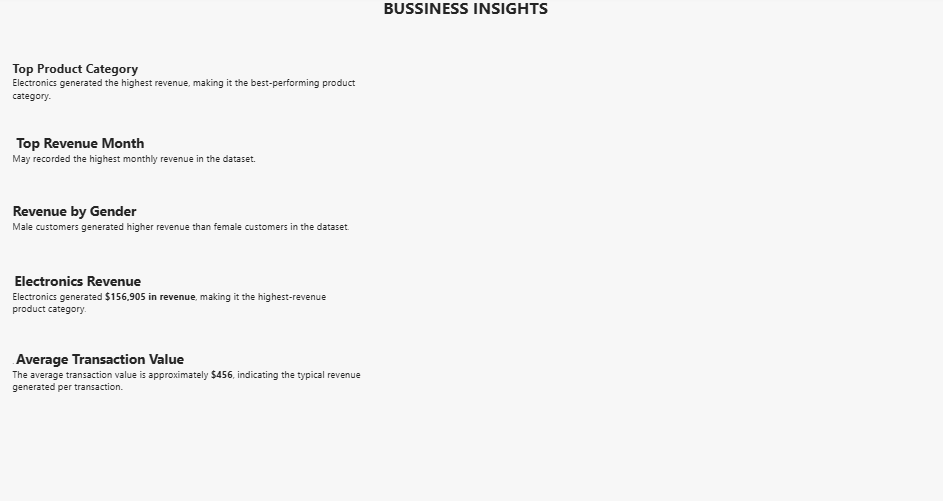

Layout of this report page (visuals, bound fields, positions):
{"tool":"powerbi","page":{"name":"Page 2","canvas":[1920,1080],"ordinal":1},"visuals":[{"type":"textbox","box":[0,125.5,726.6,232],"z":0},{"type":"textbox","box":[0,268.4,714.9,122.6],"z":1},{"type":"textbox","box":[0,402.7,726.6,106.5],"z":2},{"type":"textbox","box":[0,539.8,726.6,186.7],"z":4},{"type":"textbox","box":[0,693,726.6,264.1],"z":5},{"type":"textbox","box":[474.2,0,917.7,110.9],"z":6}]}

Visuals, with their boxes on the page's 1920x1080 design canvas (x1, y1, x2, y2). These are canvas units, not pixel positions in the 943x501 screenshot, which may show the page scaled, cropped or inside an application window:
textbox: box=[0, 126, 727, 358]
textbox: box=[0, 268, 715, 391]
textbox: box=[0, 403, 727, 509]
textbox: box=[0, 540, 727, 726]
textbox: box=[0, 693, 727, 957]
textbox: box=[474, 0, 1392, 111]
